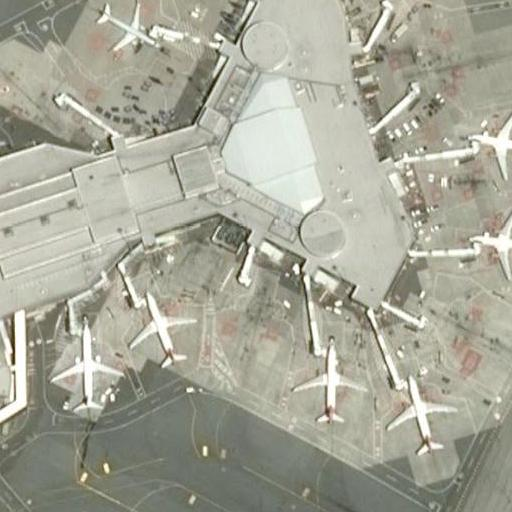Aircraft: (49, 323, 123, 412), (292, 343, 367, 425), (384, 376, 457, 457), (128, 292, 195, 368), (94, 0, 162, 51), (467, 205, 512, 279), (467, 106, 512, 180)
